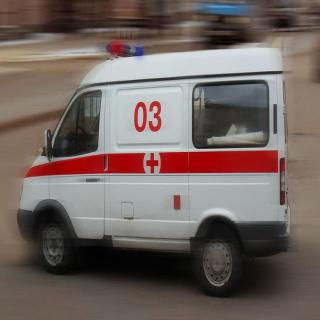Ambulance: (9, 18, 299, 300)
